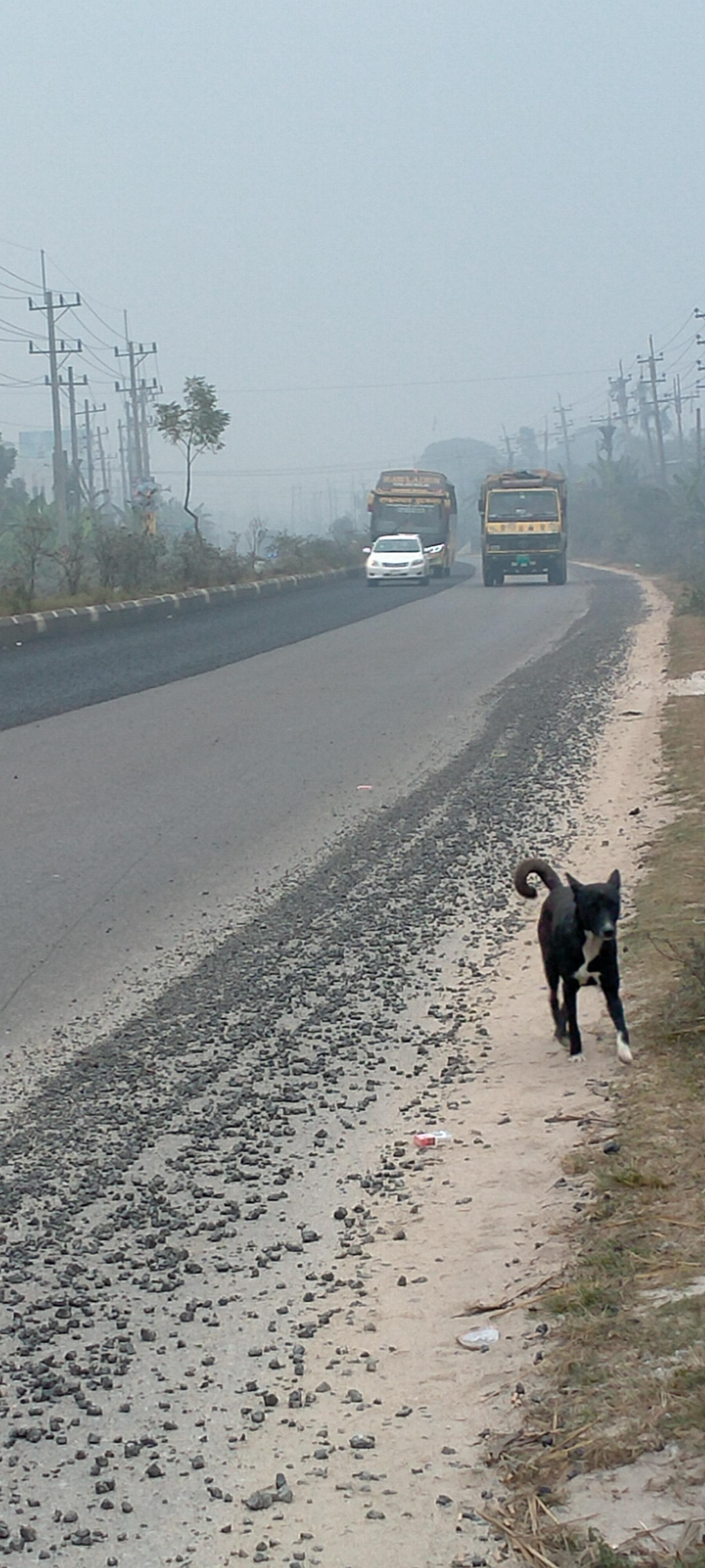Bus: (357, 461, 457, 573)
Car: (357, 532, 442, 591)
Truck: (473, 468, 589, 596)
